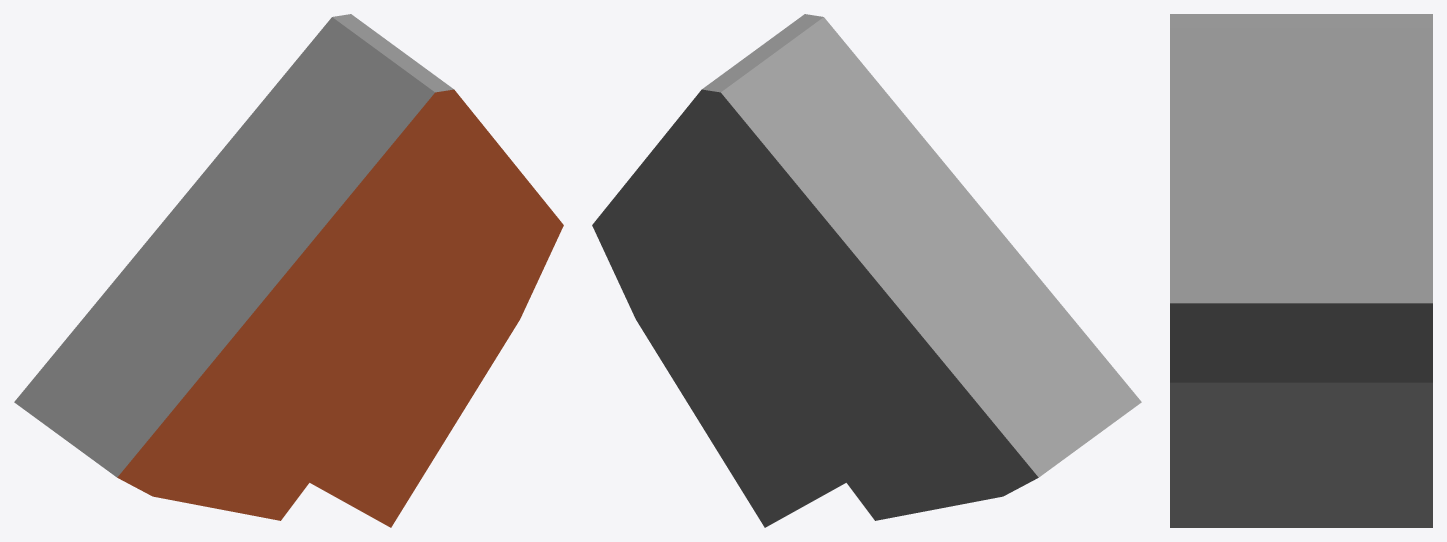
File: construction_7262_assumed_A_Ruinas_h6m.obj
The picture shows the model from 3 angles, left to right: view 1: azimuth 30°, elevation 25°; view 2: azimuth 150°, elevation 25°; view 3: azimuth 270°, elevation 25°; orthographic projection. The views are drawn at different scales.
Visible parts, largest first — view 1: construction_7262_assumed_A_Ruinas; view 2: construction_7262_assumed_A_Ruinas; view 3: construction_7262_assumed_A_Ruinas.
Part boxes in pixels (left/top/right/bottom): construction_7262_assumed_A_Ruinas: left=14, top=14, right=563, bottom=527; construction_7262_assumed_A_Ruinas: left=592, top=14, right=1141, bottom=527; construction_7262_assumed_A_Ruinas: left=1170, top=14, right=1432, bottom=527.
Bounding box in the file's own units: 15.01 × 13.63 × 6.
